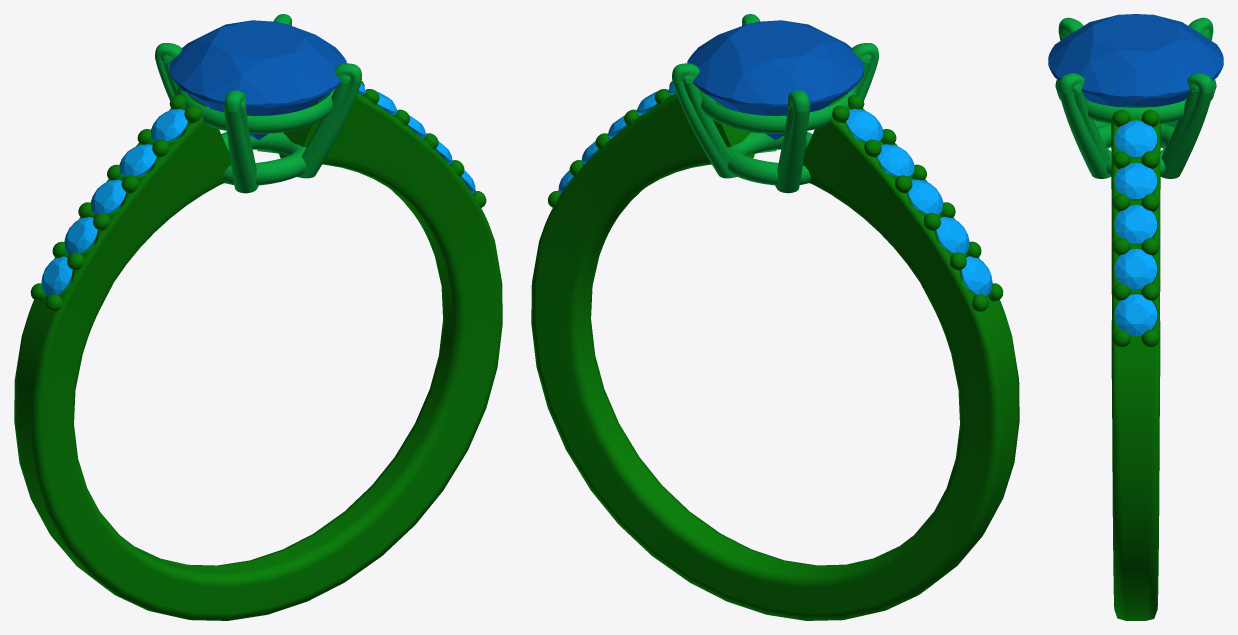
File: 1780080885193-R00001_shank-3_head-0_gemshape-0_gemsize-2_orientation-0.glb
3 renders of one model, left to right at view 1: azimuth 30°, elevation 25°; view 2: azimuth 150°, elevation 25°; view 3: azimuth 270°, elevation 25°, orthographic.
Parts seen in each view (by area): view 1: Metal 01, Gem 01, Metal 02, Gem 03; view 2: Metal 01, Gem 01, Metal 02, Gem 03; view 3: Metal 01, Gem 01, Metal 02, Gem 03.
Part boxes in pixels (<box>): Metal 01: <box>14,81,502,620</box>; Gem 01: <box>169,20,346,139</box>; Metal 02: <box>155,14,361,193</box>; Gem 03: <box>41,82,475,295</box>; Metal 01: <box>531,81,1019,620</box>; Gem 01: <box>687,20,864,139</box>; Metal 02: <box>672,14,878,193</box>; Gem 03: <box>558,82,992,295</box>; Metal 01: <box>1111,106,1160,620</box>; Gem 01: <box>1048,14,1223,106</box>; Metal 02: <box>1055,17,1216,178</box>; Gem 03: <box>1114,120,1157,336</box>.
Size of the model in its own units: 21.33 by 24.79 by 7.
